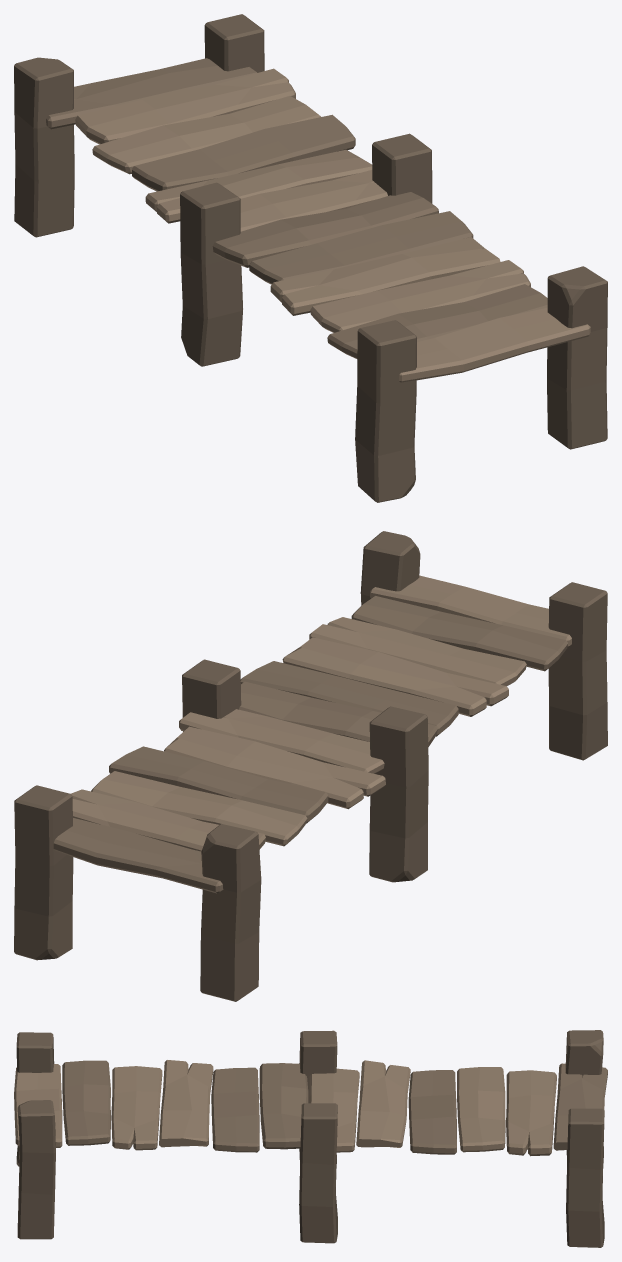
The model's file is FishingPier.fbx.
3 views of the same model, one above another, from view 1: azimuth 30°, elevation 25°; view 2: azimuth 150°, elevation 25°; view 3: azimuth 270°, elevation 25° (orthographic). The views are drawn at different scales.
Visible parts, largest first — view 1: FishingPier; view 2: FishingPier; view 3: FishingPier.
Boxes of the visible parts, bbox=[...] form: FishingPier: bbox=[14, 14, 607, 502]; FishingPier: bbox=[14, 531, 607, 1001]; FishingPier: bbox=[14, 1030, 607, 1247].
Size of the model in its own units: 166 by 110 by 451.
